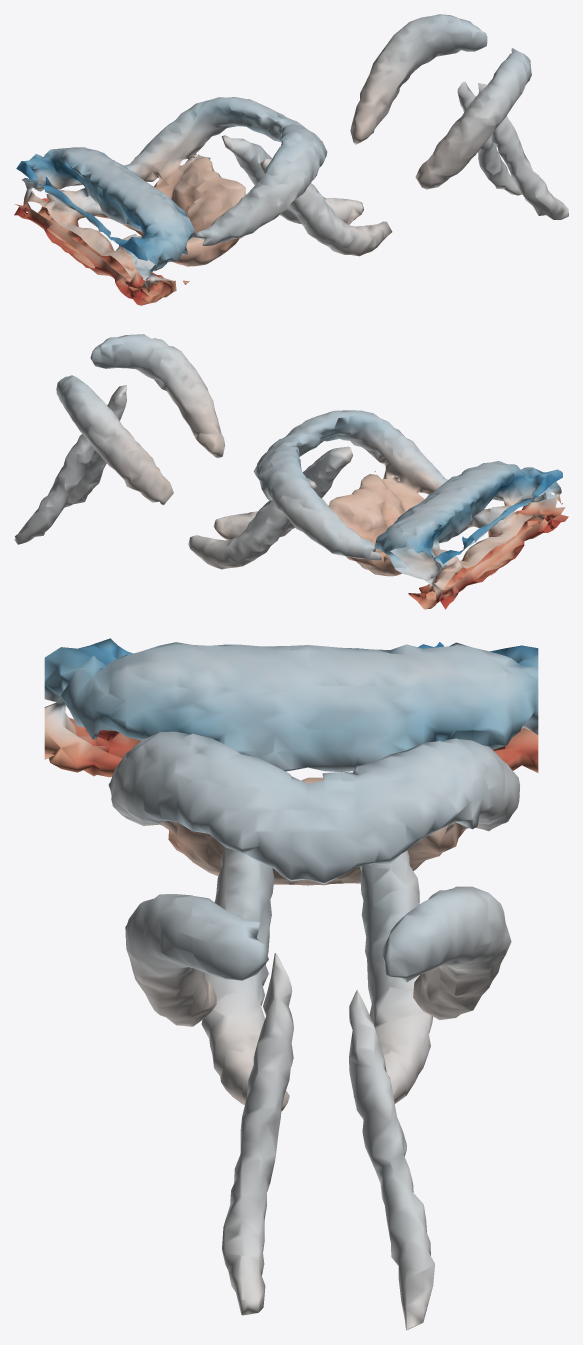
3 views of the same model, one above another, from view 1: azimuth 30°, elevation 25°; view 2: azimuth 150°, elevation 25°; view 3: azimuth 270°, elevation 25° (orthographic). The views are drawn at different scales.
Bounding box in the file's own units: 5.43 × 2.05 × 2.5.
